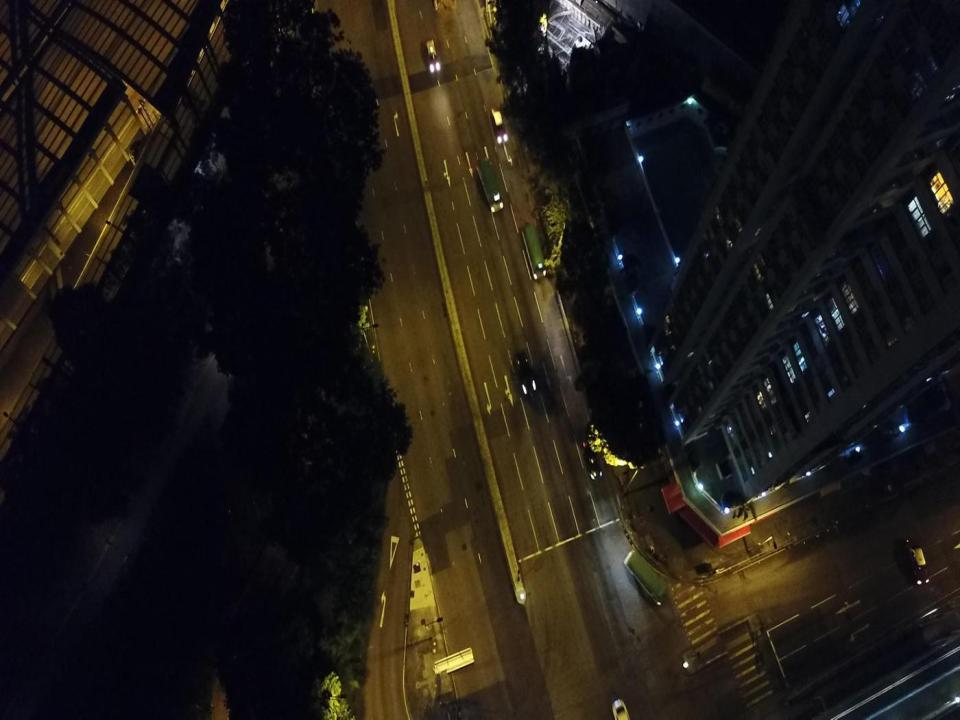bus: (623, 549, 668, 607), (476, 158, 504, 213), (521, 223, 547, 280)
car: (903, 536, 931, 586), (514, 351, 536, 396), (581, 438, 603, 480), (489, 104, 508, 143), (423, 36, 440, 72), (610, 697, 630, 719)
